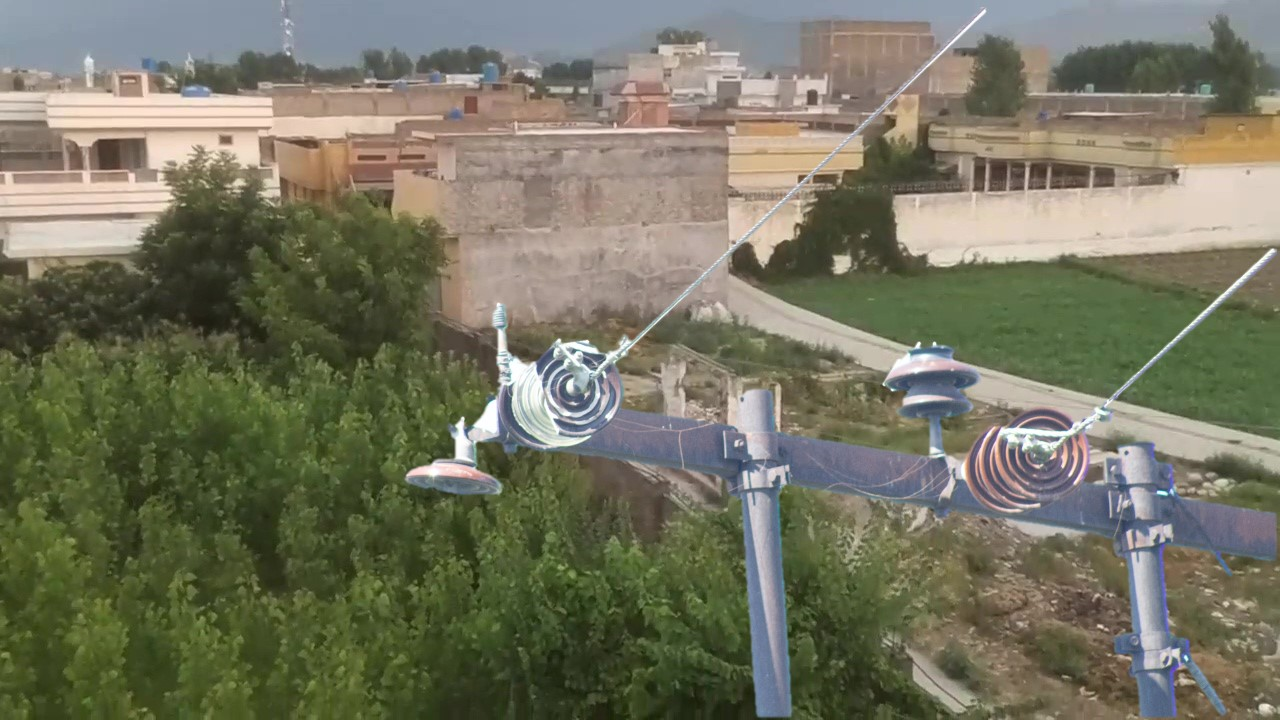defect_disc: (518, 340, 626, 454)
insulator_disc: (969, 410, 1095, 509), (404, 438, 507, 511)
